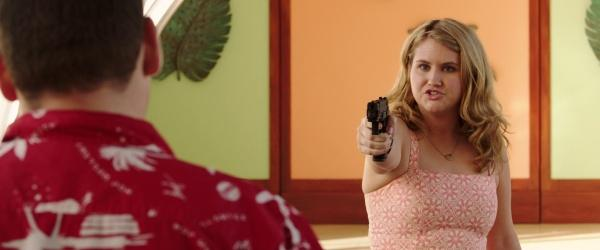Gun: (367, 96, 390, 162)
